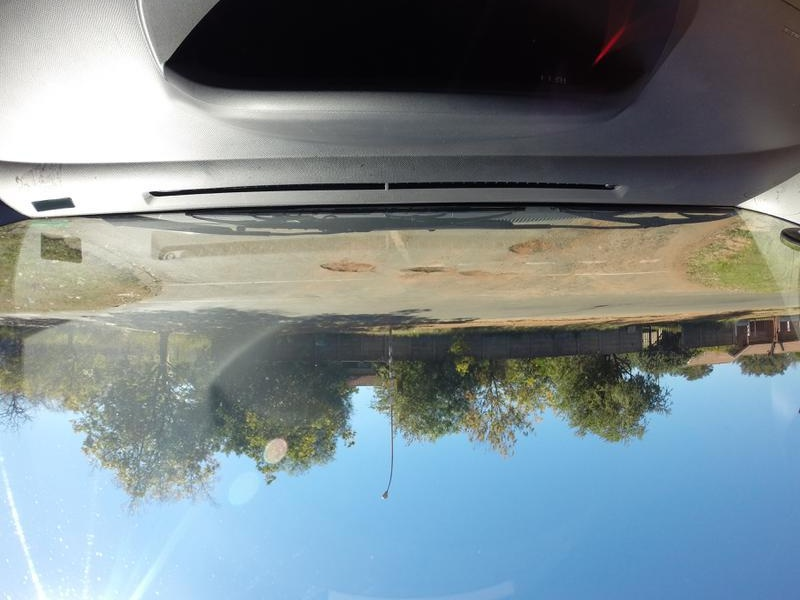pothole: (495, 232, 557, 266), (306, 253, 372, 281), (458, 262, 508, 284), (401, 260, 451, 280)
